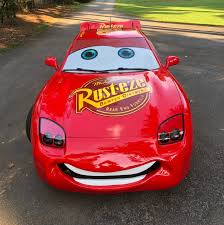mcqueen: (24, 19, 194, 194)
